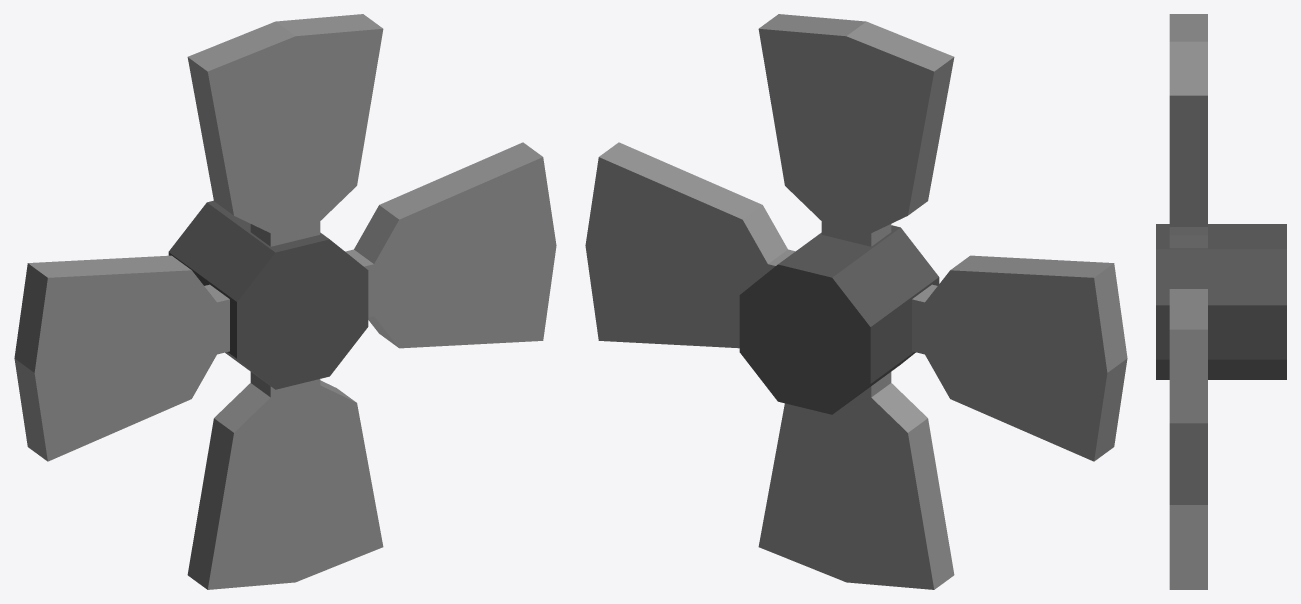
File: HousePart_02_2.fbx
3 renders of one model, left to right at view 1: azimuth 30°, elevation 25°; view 2: azimuth 150°, elevation 25°; view 3: azimuth 270°, elevation 25°, orthographic. The views are drawn at different scales.
Visible parts, largest first — view 1: HousePart_02_2; view 2: HousePart_02_2; view 3: HousePart_02_2.
Part boxes in pixels (bbox=[...]): HousePart_02_2: bbox=[14, 14, 556, 589]; HousePart_02_2: bbox=[585, 14, 1127, 589]; HousePart_02_2: bbox=[1156, 14, 1286, 589].
Size of the model in its own units: 40.62 by 40.62 by 9.25.
